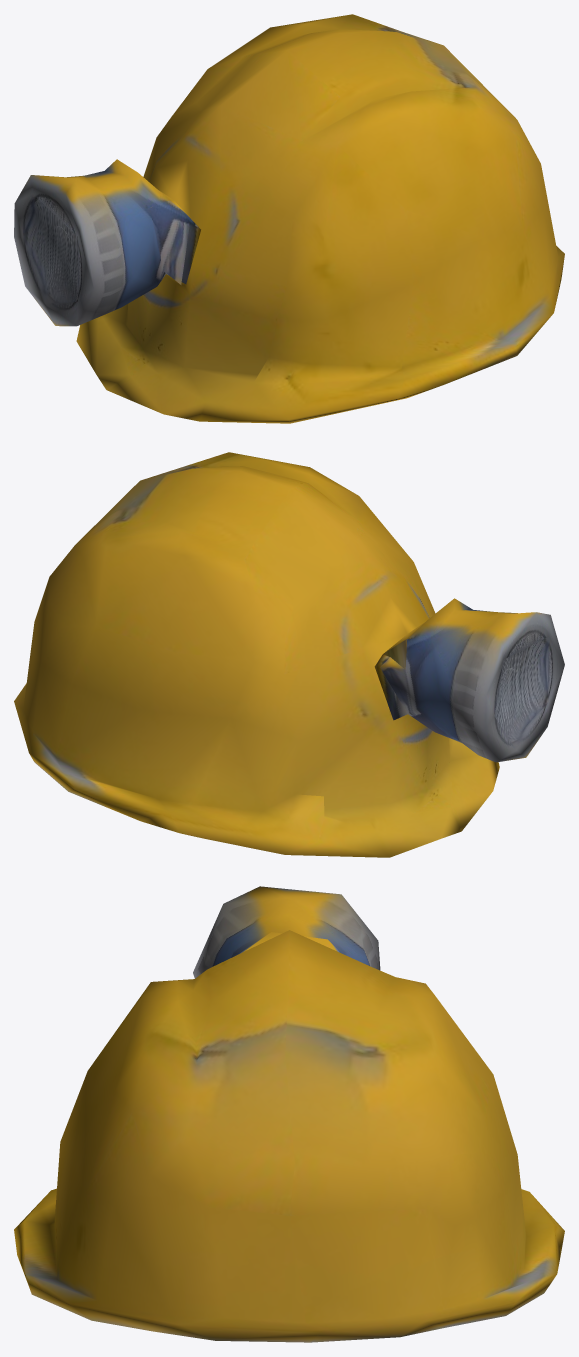
The model's file is tripo_convert_2308de24-749d-474e-a91e-e89465e02598.fbx.
3 views of the same model, one above another, from view 1: azimuth 30°, elevation 25°; view 2: azimuth 150°, elevation 25°; view 3: azimuth 270°, elevation 25° (orthographic). The views are drawn at different scales.
Parts seen in each view (by area): view 1: tripo_node_2308de24; view 2: tripo_node_2308de24; view 3: tripo_node_2308de24.
Part boxes in pixels (box(x1,y1,x2,y2)): tripo_node_2308de24: box(14, 14, 564, 423); tripo_node_2308de24: box(14, 452, 564, 857); tripo_node_2308de24: box(14, 886, 564, 1342).
Size of the model in its own units: 1 by 0.6212 by 0.8631.
Materials: 1 (1 with a texture image).
